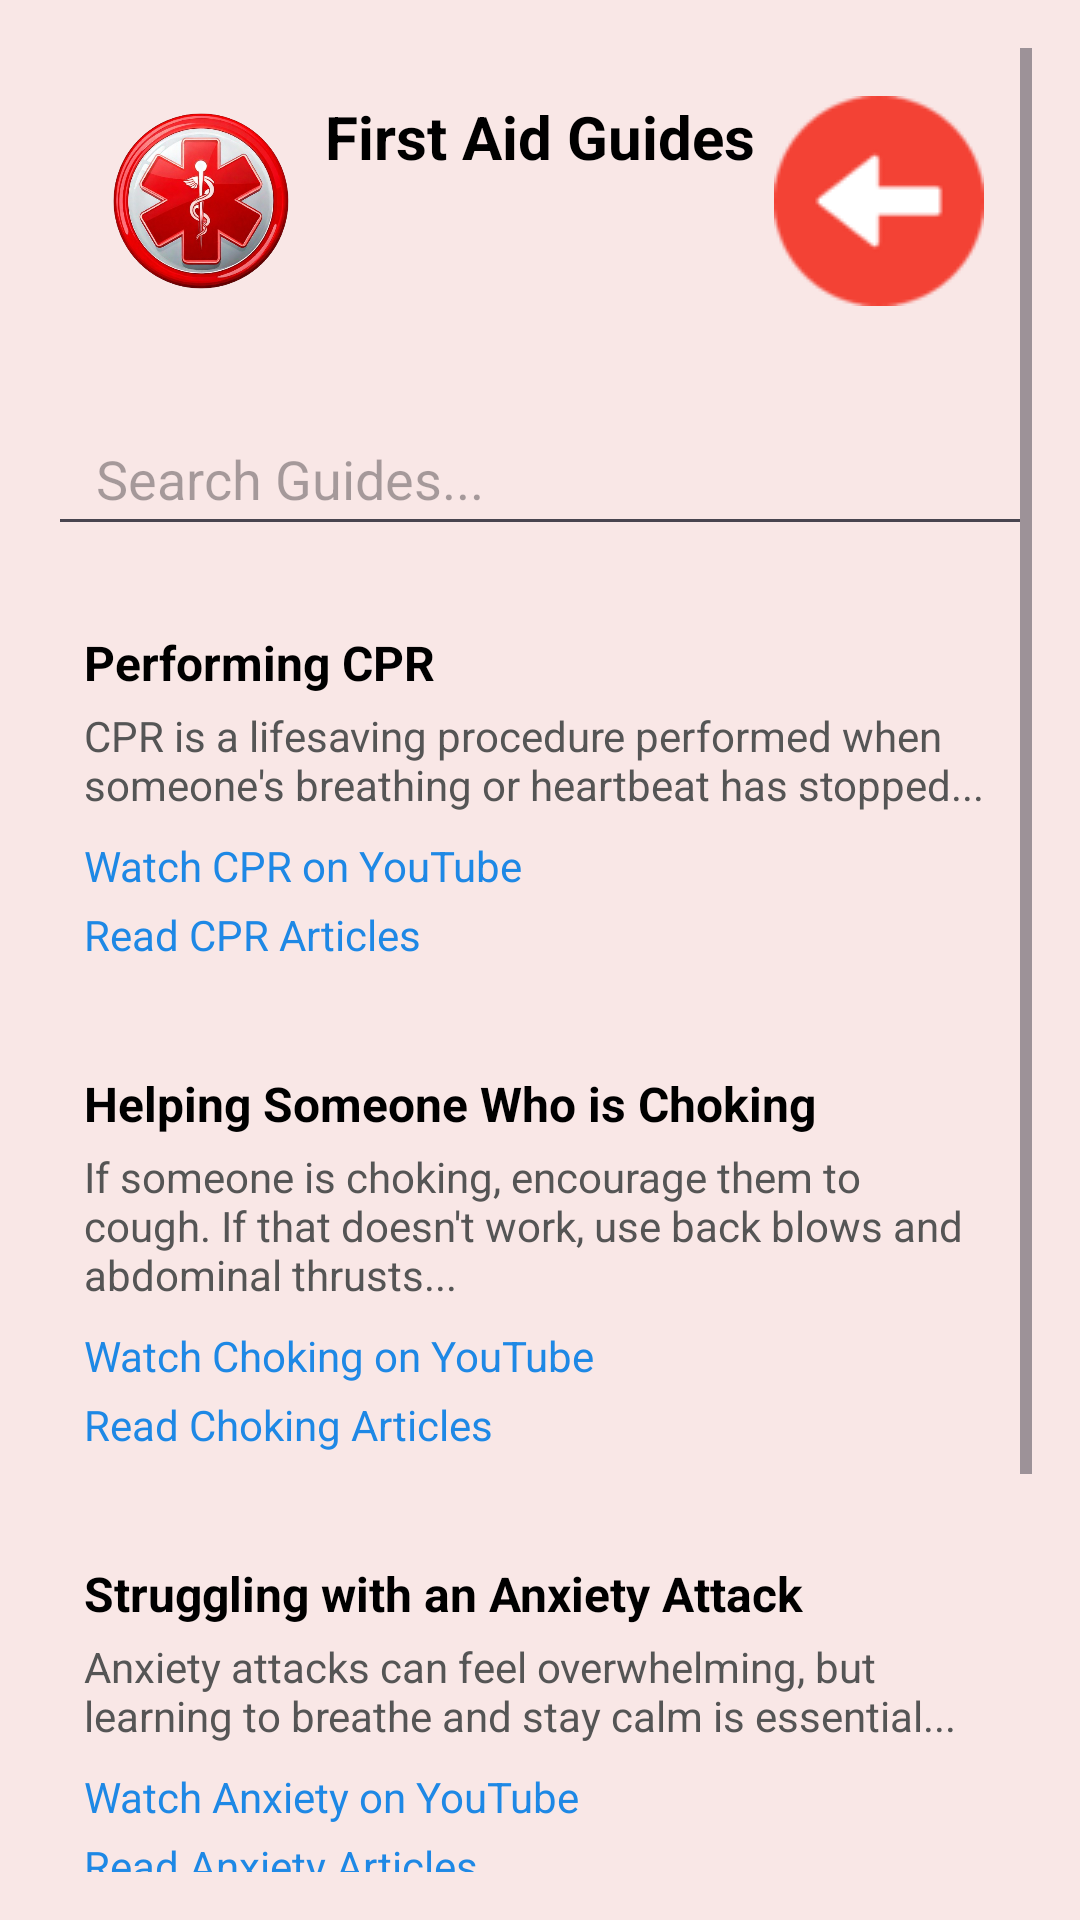

Screen size 1080 x 1920. Icon name, then its center in pixels as (x=x, y=y):
Back button: (x=879, y=201)
